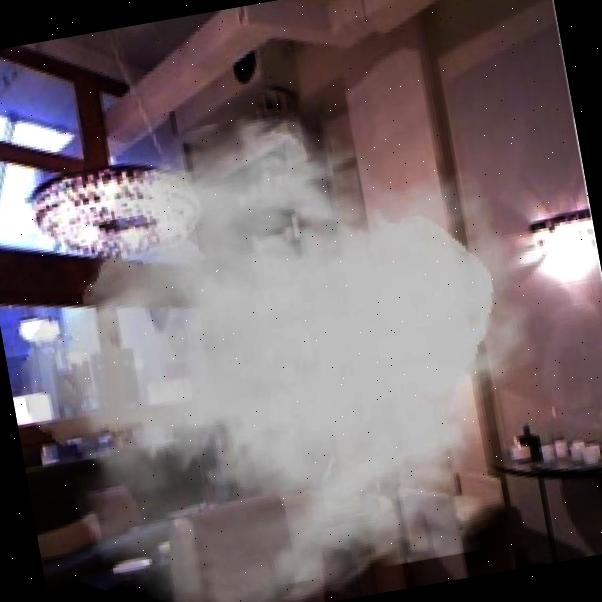smoke: (0, 63, 595, 602)
